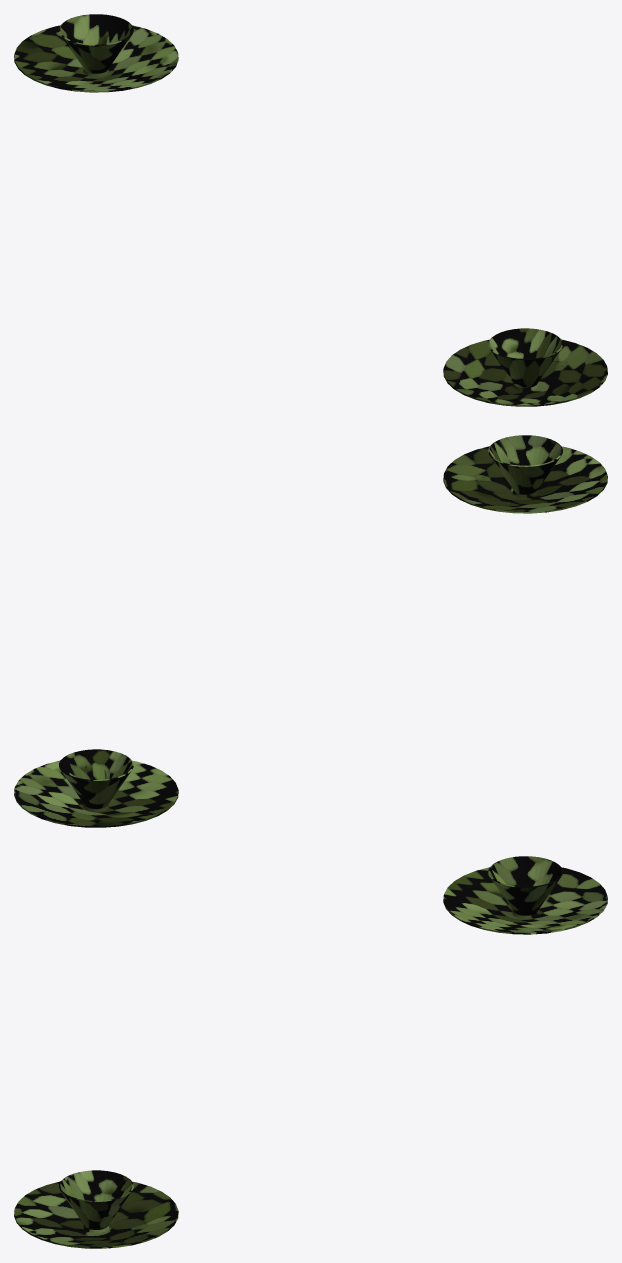
Rendered from modern_scandinavian_kitchen_island_12.obj.
3 views of the same model, one above another, from view 1: azimuth 30°, elevation 25°; view 2: azimuth 150°, elevation 25°; view 3: azimuth 330°, elevation 25° (orthographic).
Size of the model in its own units: 0.4104 by 0.1181 by 2.54.
